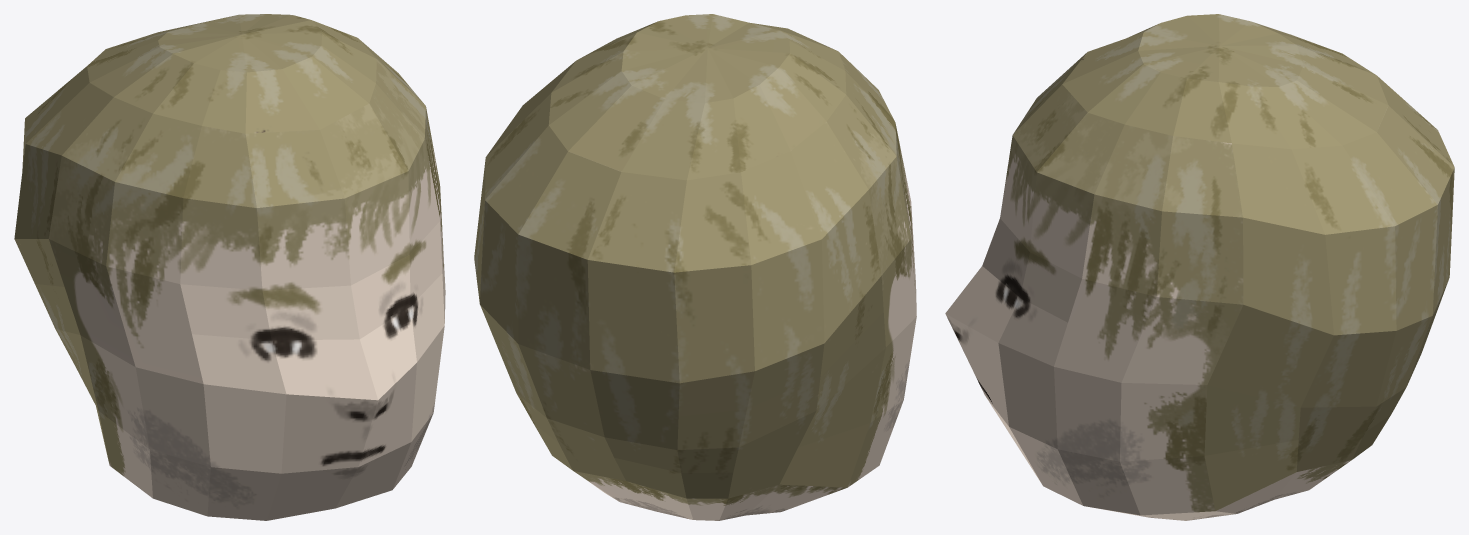
The model's file is lempie.fbx.
The picture shows the model from 3 angles, left to right: view 1: azimuth 30°, elevation 25°; view 2: azimuth 150°, elevation 25°; view 3: azimuth 270°, elevation 25°; orthographic projection. The views are drawn at different scales.
Parts seen in each view (by area): view 1: pie.001; view 2: pie.001; view 3: pie.001.
Boxes of the visible parts, x1=… form: pie.001: x1=14, y1=14, x2=445, y2=520; pie.001: x1=474, y1=14, x2=916, y2=520; pie.001: x1=945, y1=14, x2=1454, y2=520.
Size of the model in its own units: 62.68 by 73.92 by 75.82.
